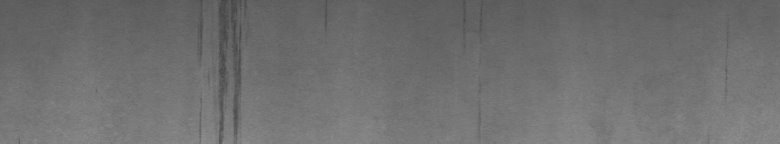ka: (199, 4, 247, 136)
